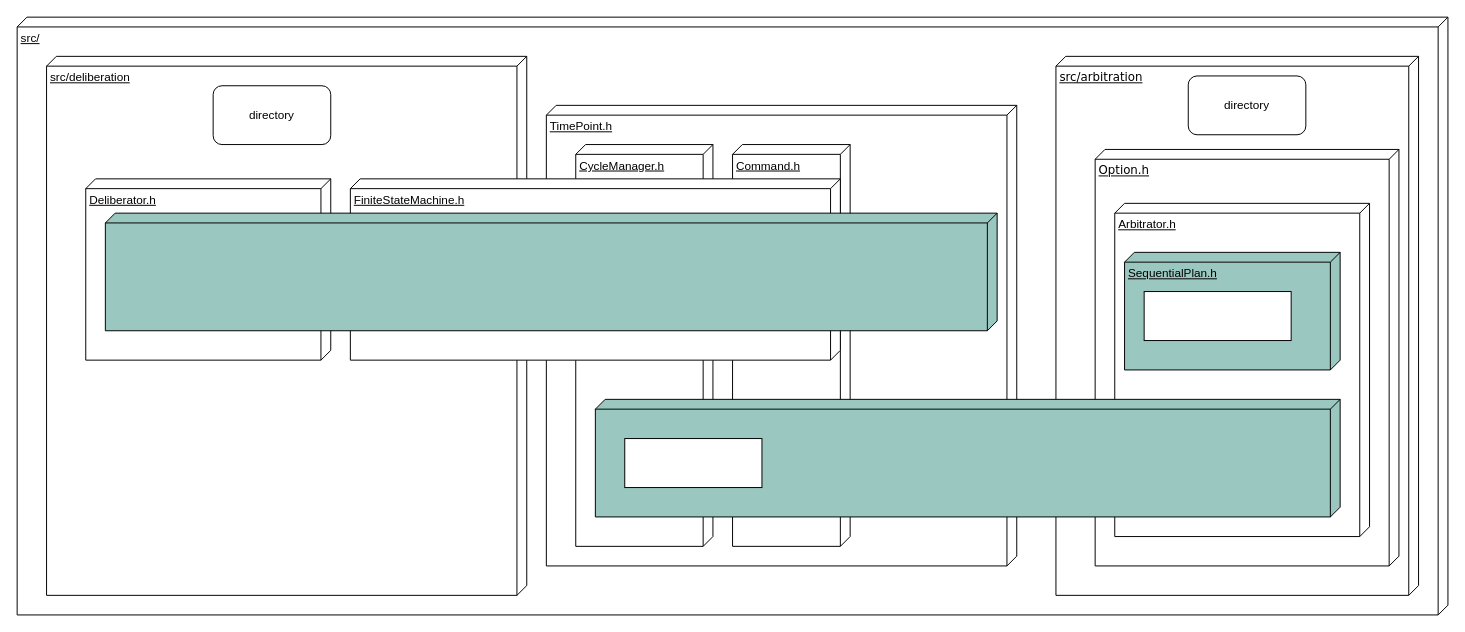
This 1465x632 diagram has some shape labels left out. Each missing label, with the centre of its shape:
addOption() - add behaviour - gets active by priority: pixel 693 463
appendStage() - add behaviour - gets active by sequence: pixel 1217 316
FiniteStateDeliberation.h: pixel 550 271
PriorityArbitration.h: pixel 967 457
